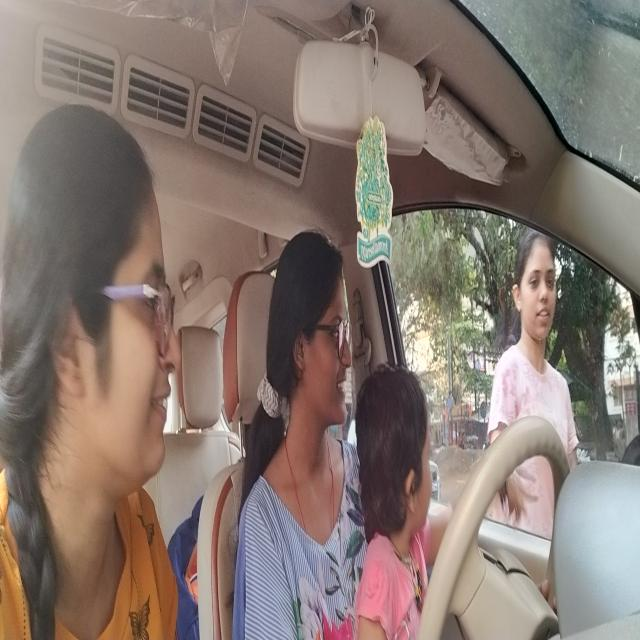child: (369, 370, 439, 537)
person: (54, 95, 184, 490), (289, 228, 358, 430)
